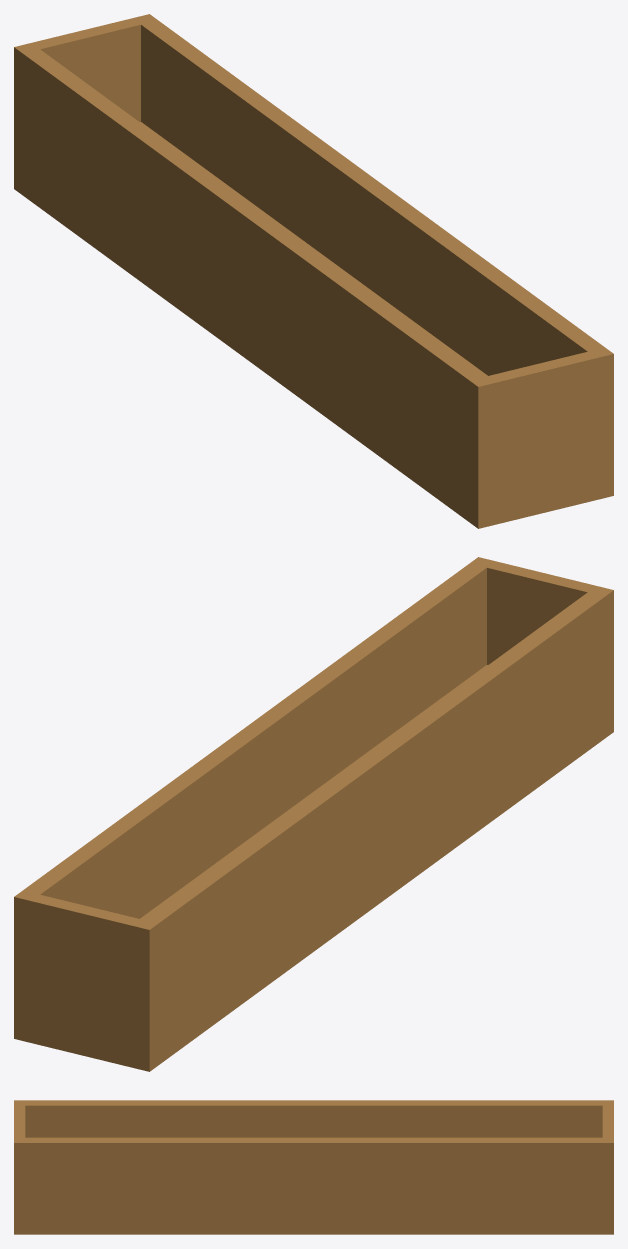
The model's file is comedouro.fbx.
3 renders of one model, top to bottom at view 1: azimuth 30°, elevation 25°; view 2: azimuth 150°, elevation 25°; view 3: azimuth 270°, elevation 25°, orthographic. The views are drawn at different scales.
Parts seen in each view (by area): view 1: Cube; view 2: Cube; view 3: Cube.
Boxes of the visible parts, left/top/right/bottom form: Cube: left=14, top=14, right=613, bottom=528; Cube: left=14, top=557, right=613, bottom=1071; Cube: left=14, top=1100, right=613, bottom=1234.
Bounding box in the file's own units: 64.51 × 64.51 × 383.
